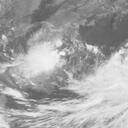cyclone: (23, 42, 59, 77)
